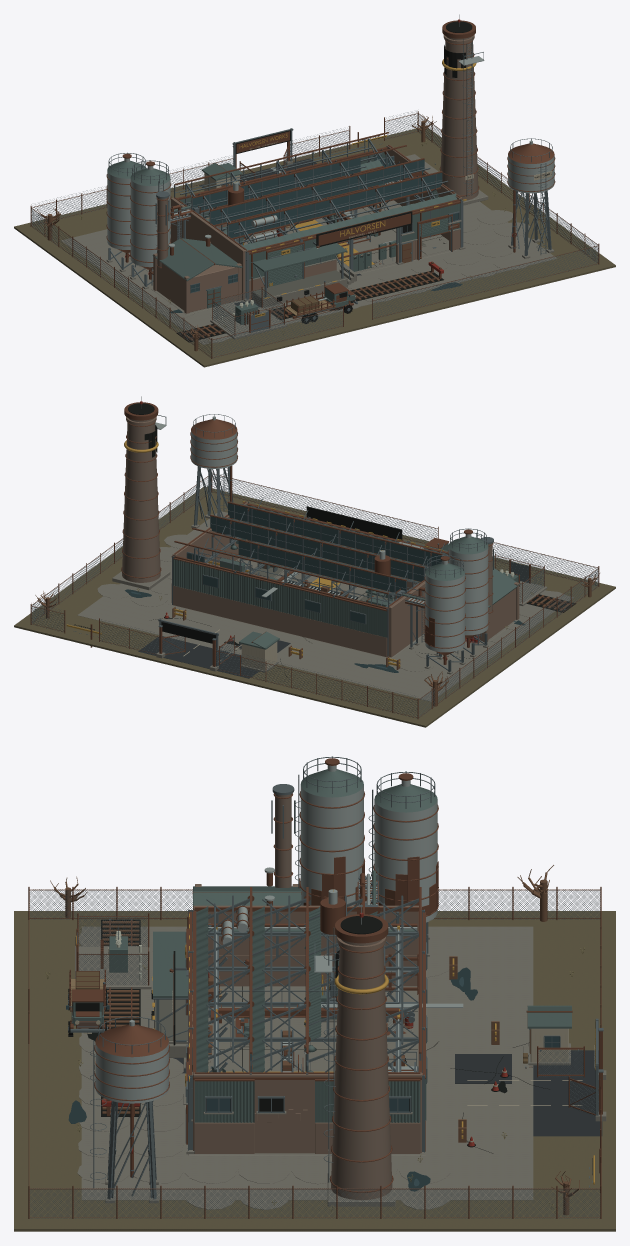
The model's file is factory_grounds.glb.
3 views of the same model, one above another, from view 1: azimuth 30°, elevation 25°; view 2: azimuth 150°, elevation 25°; view 3: azimuth 270°, elevation 25° (orthographic). The views are drawn at different scales.
Visible parts, largest first — view 1: DD_Factory_Ground, DD_Factory_Roof, DD_Factory_Shell, DD_Factory_Silo, DD_Factory_Boiler, DD_Factory_Stack, DD_Factory_Wall_South, DD_Factory_Yard, DD_Factory_WaterTower, DD_Factory_Trusses, DD_Factory_Interior, DD_Factory_Vegetation; view 2: DD_Factory_Ground, DD_Factory_Shell, DD_Factory_Roof, DD_Factory_Silo, DD_Factory_Stack, DD_Factory_WaterTower, DD_Factory_Boiler, DD_Factory_Trusses, DD_Factory_Yard, DD_Factory_Wall_South, DD_Factory_Interior, DD_Factory_Vegetation; view 3: DD_Factory_Ground, DD_Factory_Shell, DD_Factory_Silo, DD_Factory_Stack, DD_Factory_Roof, DD_Factory_Trusses, DD_Factory_Wall_East, DD_Factory_WaterTower, DD_Factory_Yard, DD_Factory_Boiler, DD_Factory_Interior, DD_Factory_Vegetation (+1 smaller).
Part boxes in pixels (x1,y1,x2,y2): DD_Factory_Ground: (14, 111, 615, 367); DD_Factory_Roof: (174, 132, 466, 252); DD_Factory_Shell: (171, 145, 465, 307); DD_Factory_Silo: (106, 152, 200, 289); DD_Factory_Boiler: (150, 191, 243, 314); DD_Factory_Stack: (439, 14, 488, 205); DD_Factory_Wall_South: (246, 203, 461, 298); DD_Factory_Yard: (210, 260, 384, 339); DD_Factory_WaterTower: (507, 138, 555, 258); DD_Factory_Trusses: (185, 138, 436, 245); DD_Factory_Interior: (219, 151, 446, 271); DD_Factory_Vegetation: (37, 114, 506, 351); DD_Factory_Ground: (14, 472, 615, 727); DD_Factory_Shell: (169, 502, 447, 658); DD_Factory_Roof: (174, 501, 448, 608); DD_Factory_Silo: (395, 528, 489, 674); DD_Factory_Stack: (112, 396, 170, 590); DD_Factory_WaterTower: (190, 414, 237, 528); DD_Factory_Boiler: (465, 537, 520, 644); DD_Factory_Trusses: (194, 499, 448, 607); DD_Factory_Yard: (164, 537, 547, 669); DD_Factory_Wall_South: (247, 506, 443, 589); DD_Factory_Interior: (186, 552, 394, 606); DD_Factory_Vegetation: (35, 573, 599, 706); DD_Factory_Ground: (14, 887, 615, 1231); DD_Factory_Shell: (151, 905, 427, 1155); DD_Factory_Silo: (295, 756, 438, 956); DD_Factory_Stack: (314, 904, 395, 1206); DD_Factory_Roof: (189, 887, 421, 1081); DD_Factory_Trusses: (206, 895, 463, 1072); DD_Factory_Wall_East: (194, 1079, 420, 1153); DD_Factory_WaterTower: (90, 1016, 169, 1203); DD_Factory_Yard: (66, 913, 508, 1147); DD_Factory_Boiler: (192, 784, 301, 974); DD_Factory_Interior: (208, 952, 418, 1072); DD_Factory_Vegetation: (45, 865, 584, 1215).
Size of the model in its own units: 50 by 22.03 by 40.
Materials: 32 (17 with a texture image).
